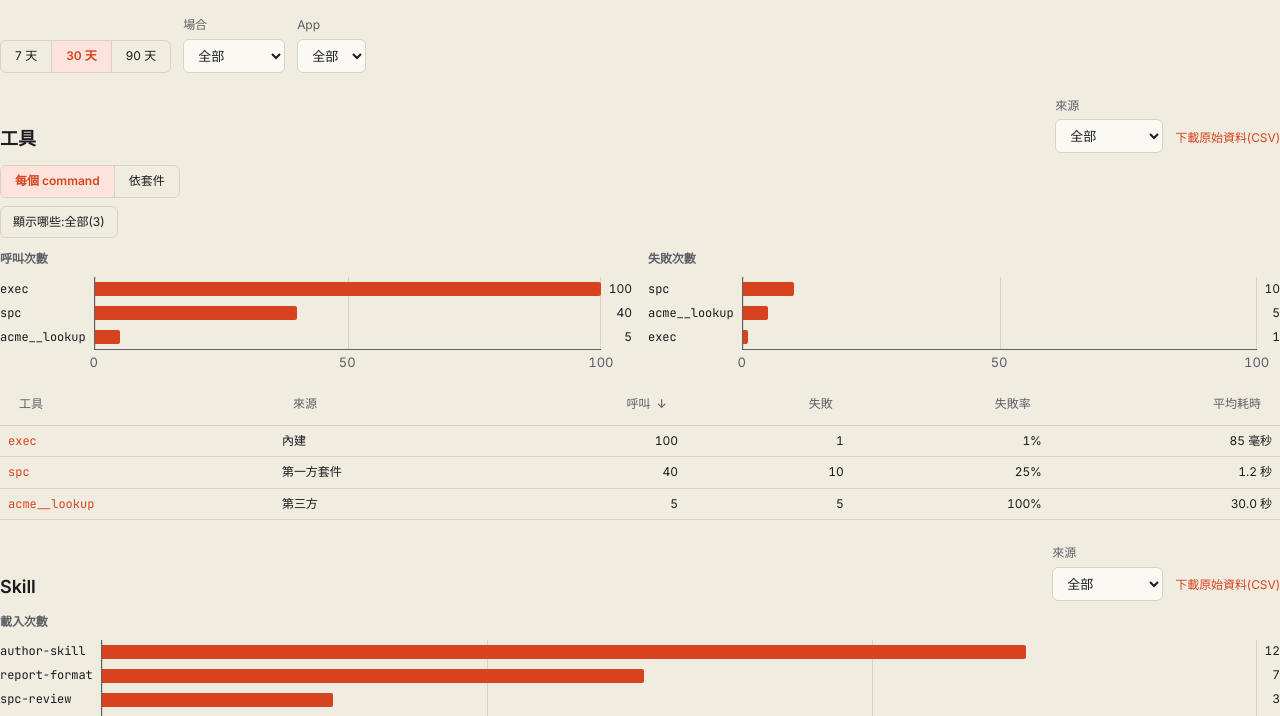
Test: which tools, at which granularity (plan §9) › changes nothing until 套用, then charts and table show only what is ticked
The image size is (1280, 716).
Click the button "顯示哪些:全部(3)". click: (59, 222)
box: [0, 206, 118, 238]
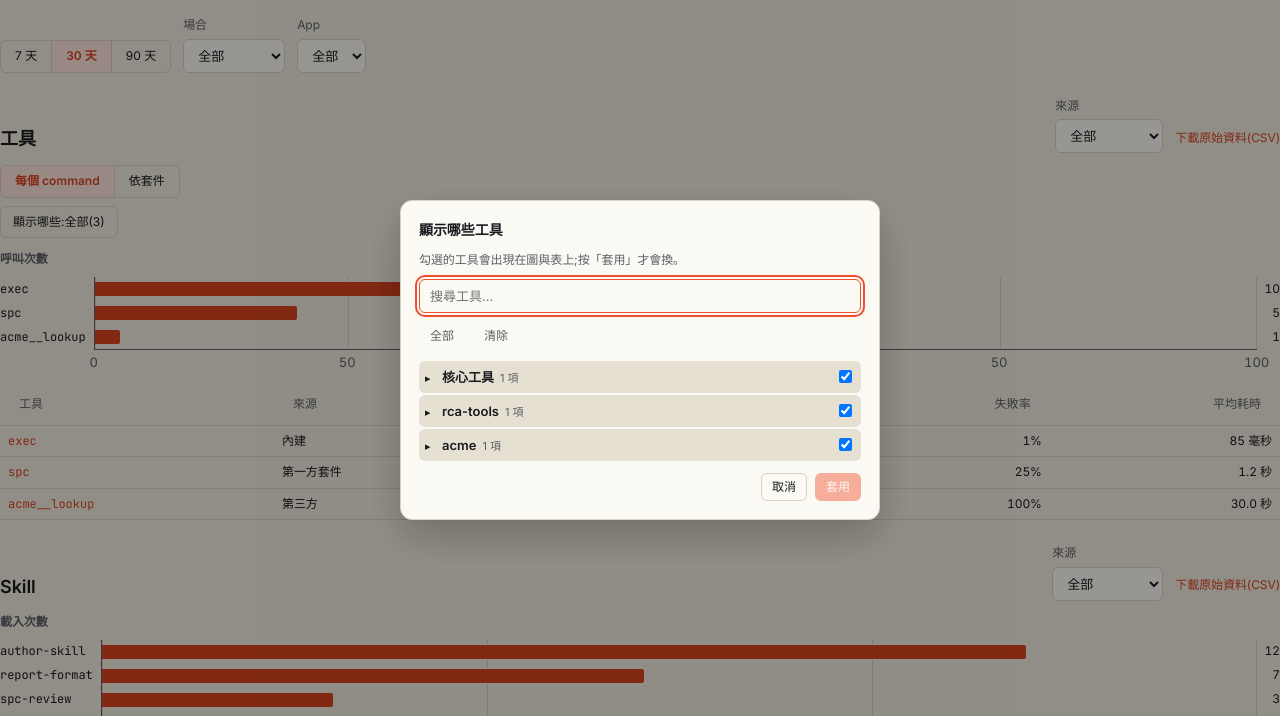
Click the button "▸ 核心工具 1 項". click: (468, 377)
box: [425, 367, 825, 387]
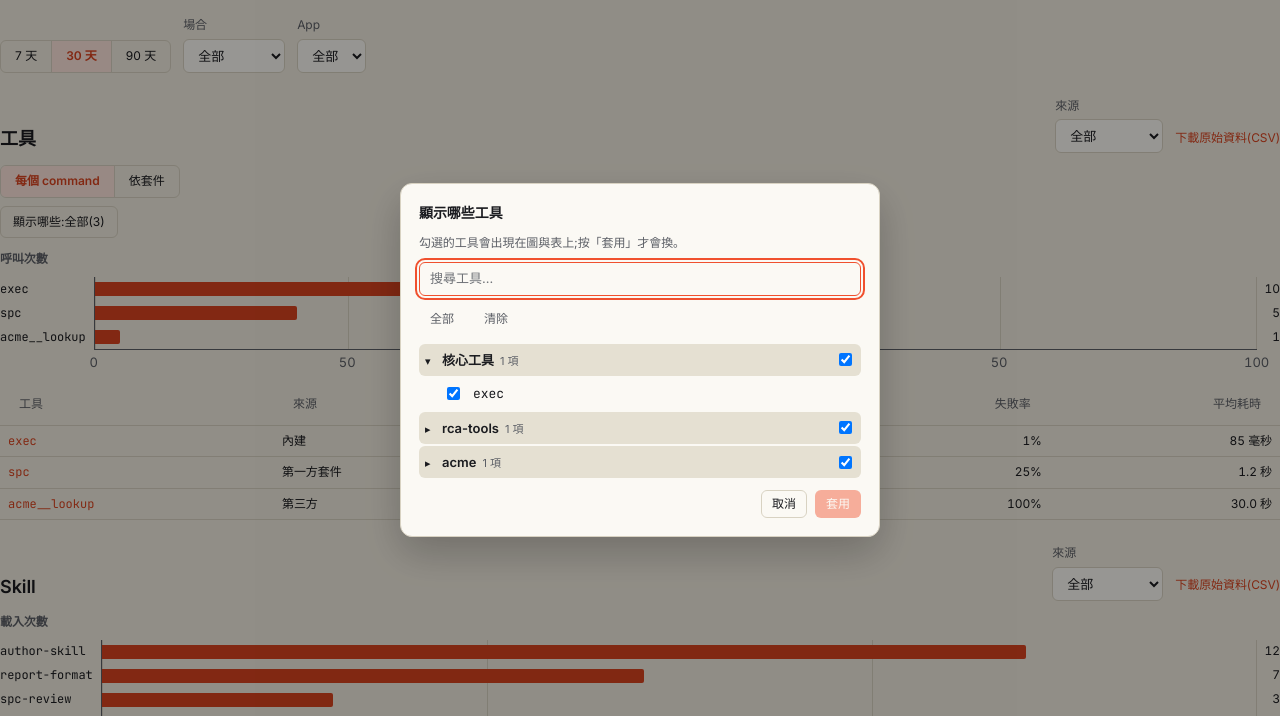
Click the checkbox labelled "exec". click: (454, 394)
box: [447, 387, 460, 400]
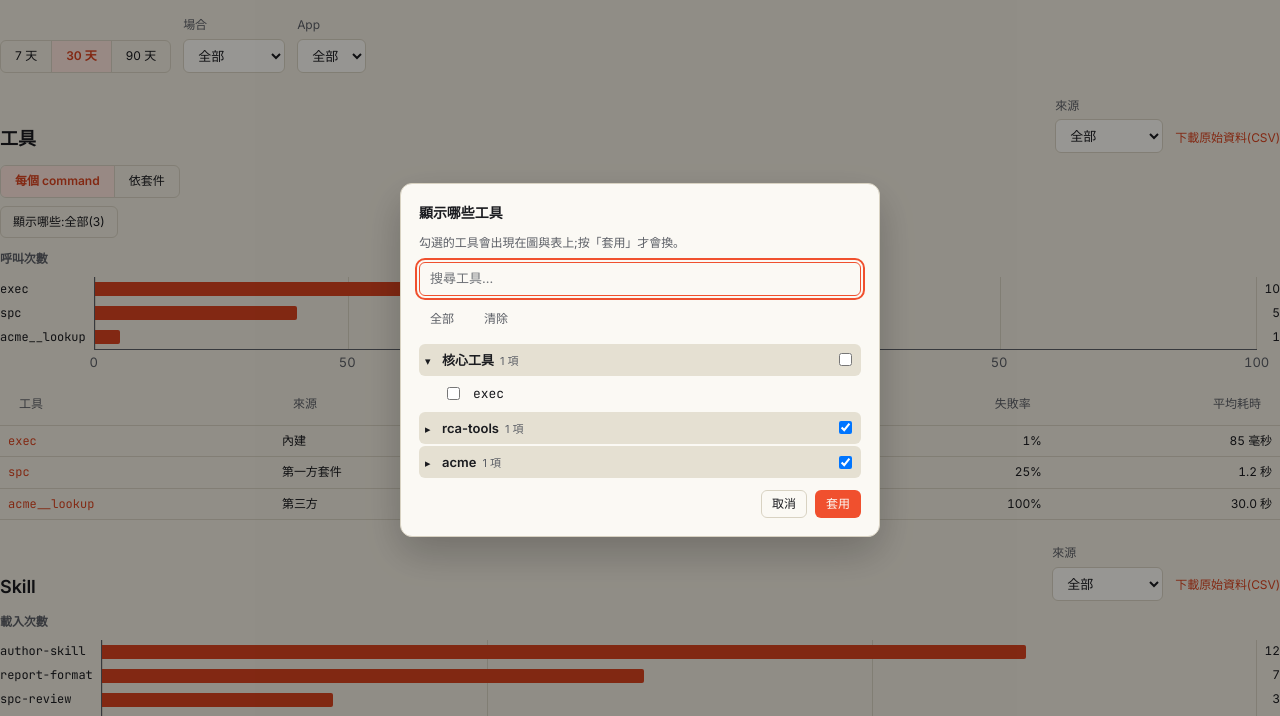
Click the button "套用". click: (838, 504)
box: [815, 490, 861, 518]
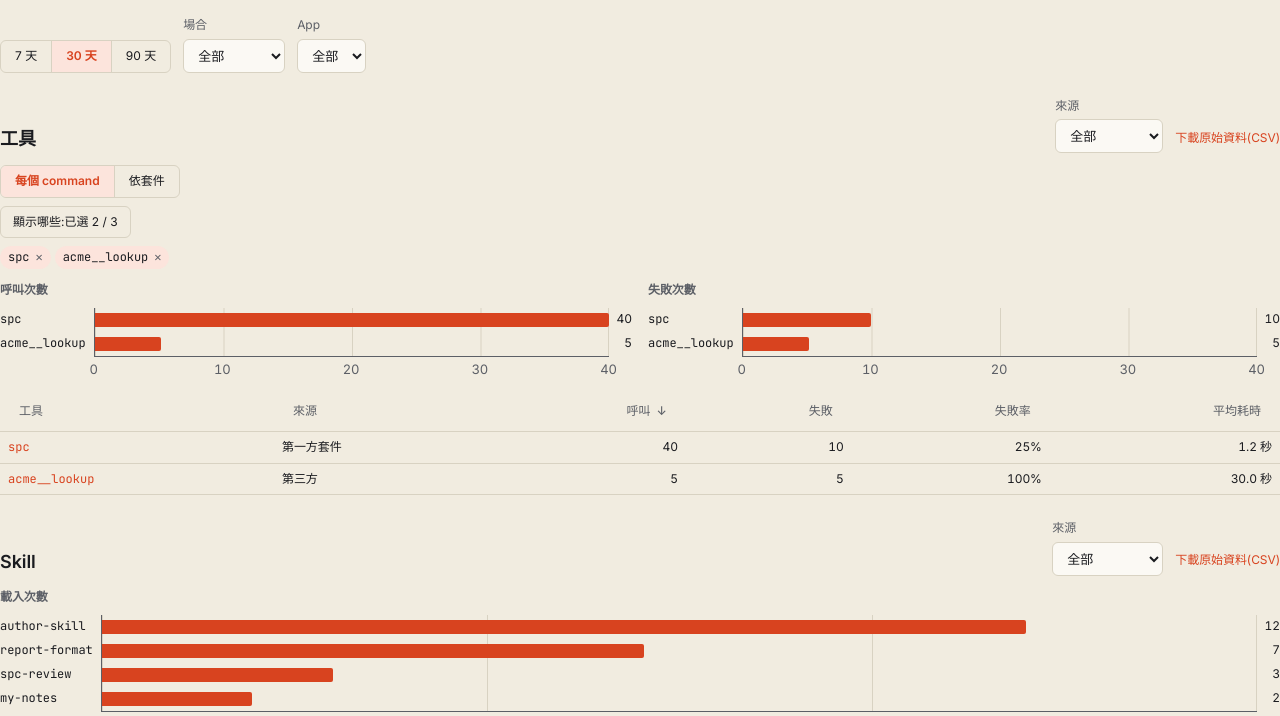
Expected: the dialog is gone
Expected: the button "顯示哪些:已選 2 / 3" is shown, [0, 206, 131, 238]
